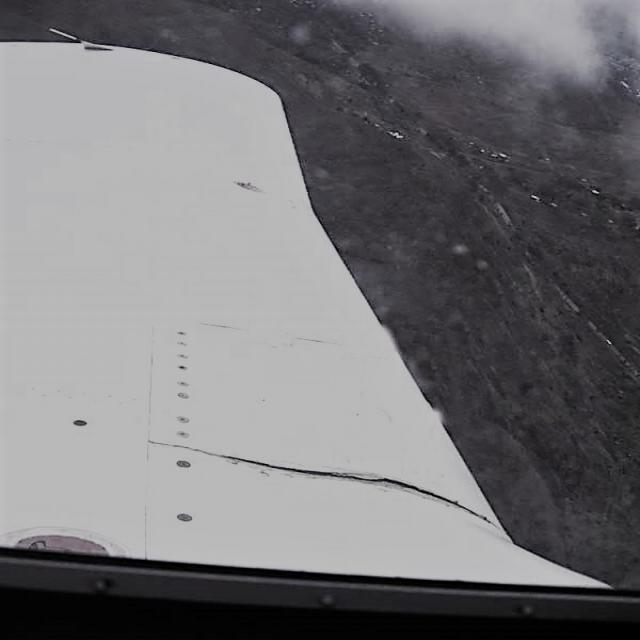crack: (141, 428, 534, 532)
